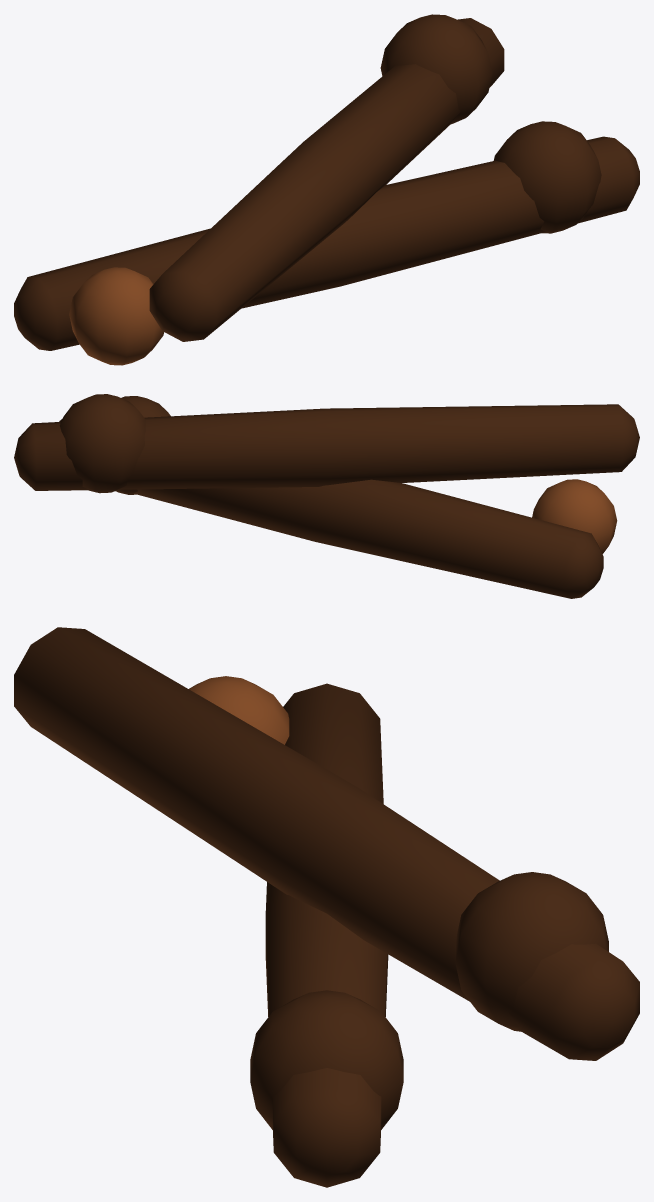
The model's file is sammel_stock.glb.
3 renders of one model, top to bottom at view 1: azimuth 30°, elevation 25°; view 2: azimuth 150°, elevation 25°; view 3: azimuth 270°, elevation 25°, orthographic. The views are drawn at different scales.
Parts seen in each view (by area): view 1: SammelStock; view 2: SammelStock; view 3: SammelStock.
Boxes of the visible parts, x1=… form: SammelStock: x1=14, y1=14, x2=639, y2=365; SammelStock: x1=14, y1=394, x2=639, y2=598; SammelStock: x1=14, y1=627, x2=639, y2=1187.
Size of the model in its own units: 0.504 by 0.132 by 0.31.
Materials: 1 (1 with a texture image).
